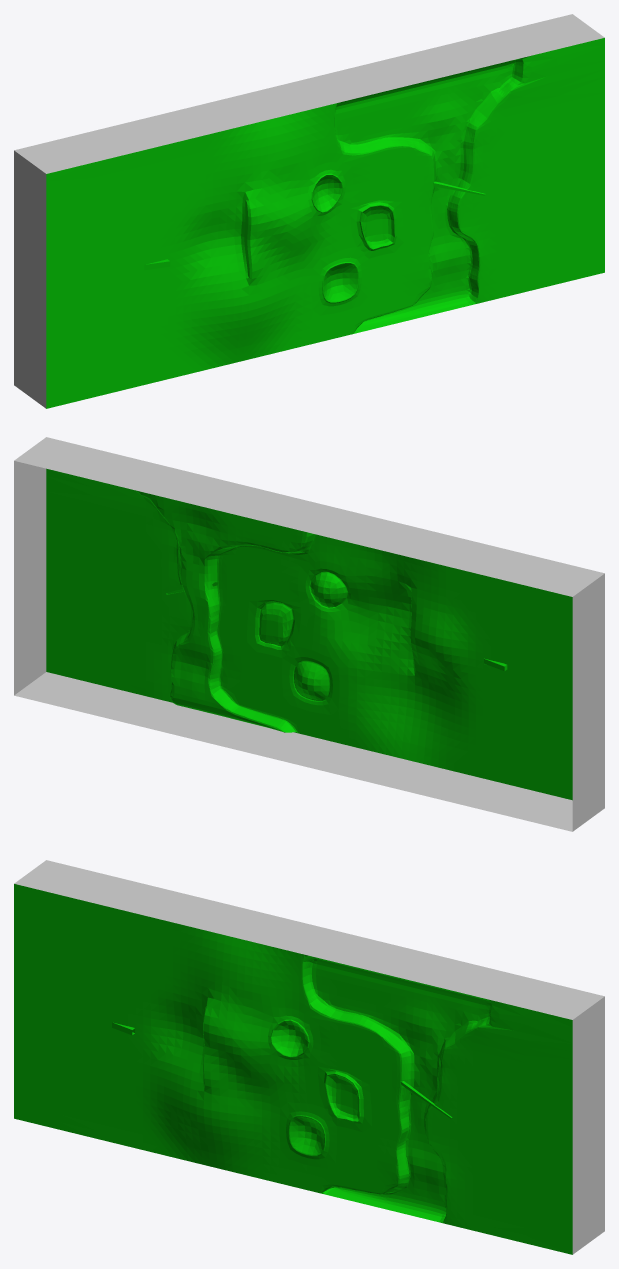
Rendered from woods_0001_col.obj.
3 views of the same model, one above another, from view 1: azimuth 30°, elevation 25°; view 2: azimuth 150°, elevation 25°; view 3: azimuth 330°, elevation 25° (orthographic).
Visible parts, largest first — view 1: level_0-1.002_Cube.001; view 2: level_0-1.002_Cube.001; view 3: level_0-1.002_Cube.001.
Part boxes in pixels (x1=…): level_0-1.002_Cube.001: x1=14, y1=14, x2=604, y2=408; level_0-1.002_Cube.001: x1=14, y1=437, x2=604, y2=831; level_0-1.002_Cube.001: x1=14, y1=860, x2=604, y2=1254.
Size of the model in its own units: 2489 by 1000 by 314.
